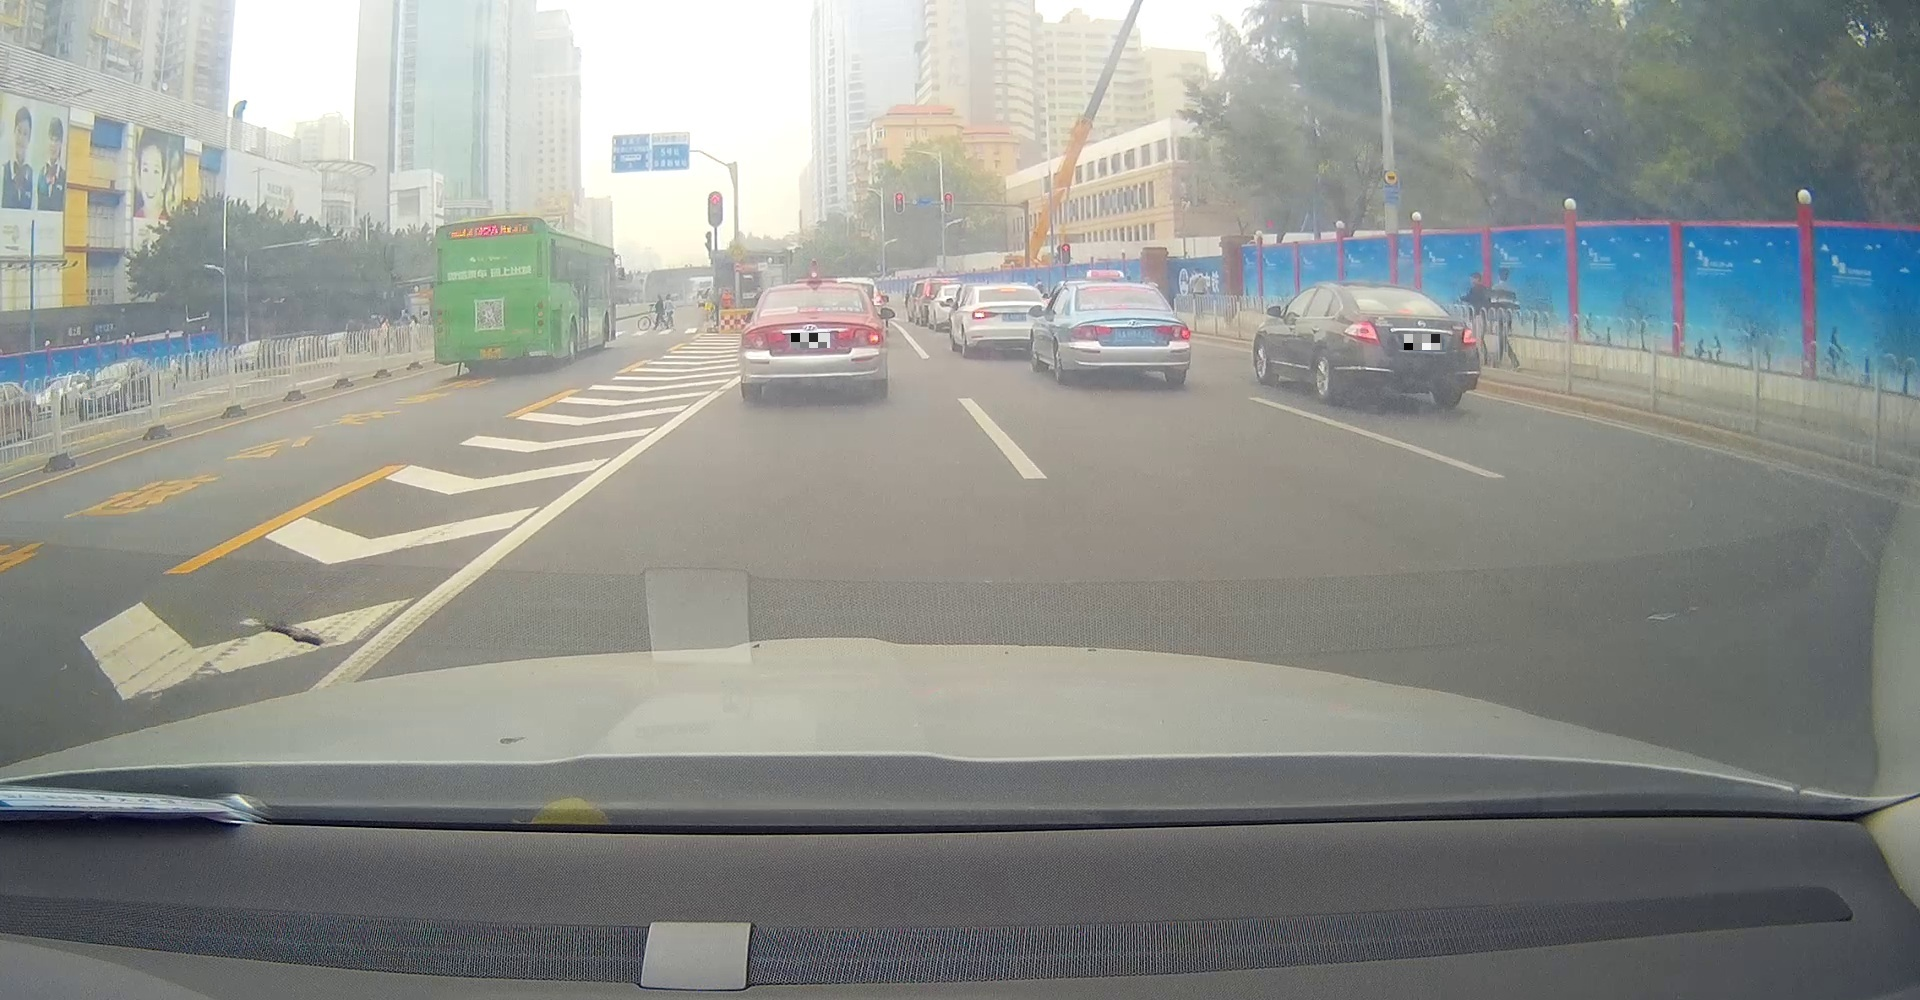L_light: (1343, 321, 1382, 344), (1072, 325, 1112, 340), (744, 332, 770, 352), (436, 311, 444, 341)
R_light: (1156, 324, 1190, 340), (855, 327, 883, 346), (1462, 326, 1477, 345), (536, 301, 543, 336)
T_light: (800, 307, 820, 312), (1397, 308, 1415, 313), (481, 220, 497, 225), (1111, 305, 1128, 308)
day-brake: (1341, 280, 1481, 410), (742, 283, 886, 400), (1068, 280, 1191, 385)
day-no: (434, 214, 550, 374)
plate_1: (791, 332, 830, 348)
plate_2: (1404, 334, 1443, 350)
